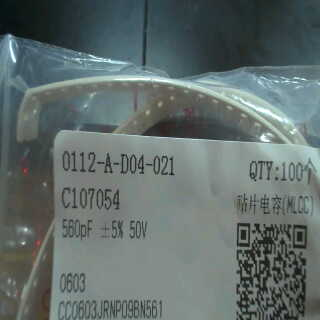560pF: (57, 217, 94, 243)
